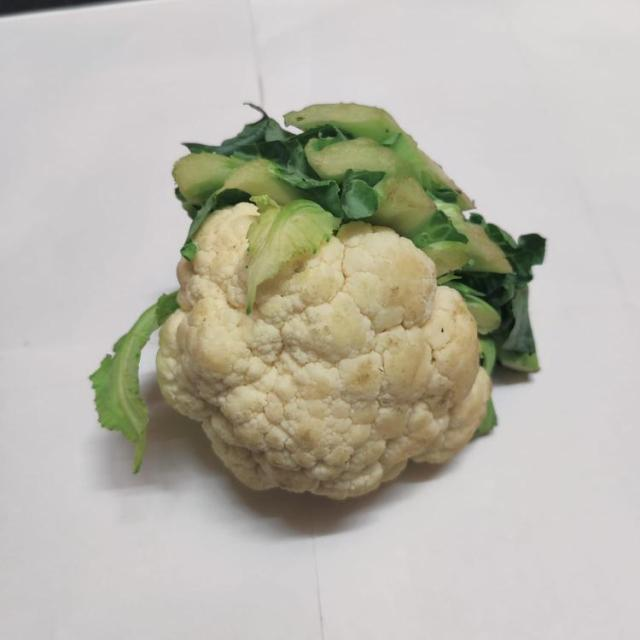Organik: (95, 103, 538, 500)
